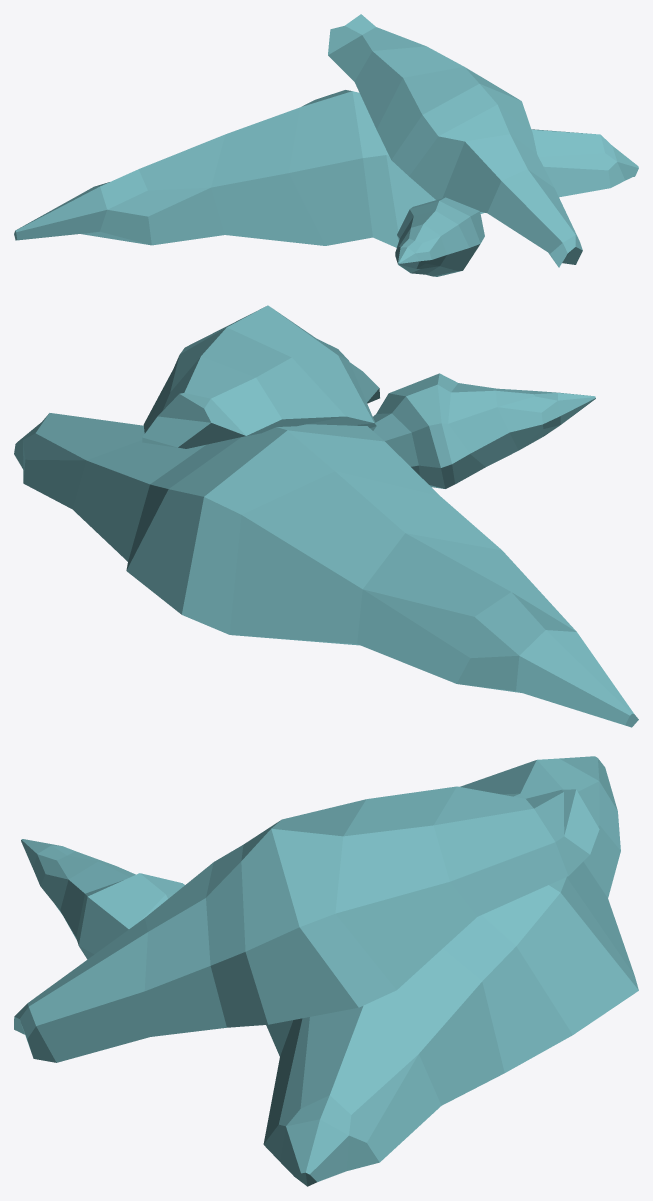
The model's file is Flint5.fbx.
3 renders of one model, top to bottom at view 1: azimuth 30°, elevation 25°; view 2: azimuth 150°, elevation 25°; view 3: azimuth 270°, elevation 25°, orthographic. The views are drawn at different scales.
Visible parts, largest first — view 1: shard_of_ore_5_Cube.068; view 2: shard_of_ore_5_Cube.068; view 3: shard_of_ore_5_Cube.068.
Part boxes in pixels (<box>): shard_of_ore_5_Cube.068: <box>14,14,638,276</box>; shard_of_ore_5_Cube.068: <box>14,305,638,727</box>; shard_of_ore_5_Cube.068: <box>14,756,638,1186</box>.
Bounding box in the file's own units: 0.7326 × 0.1985 × 0.462.
